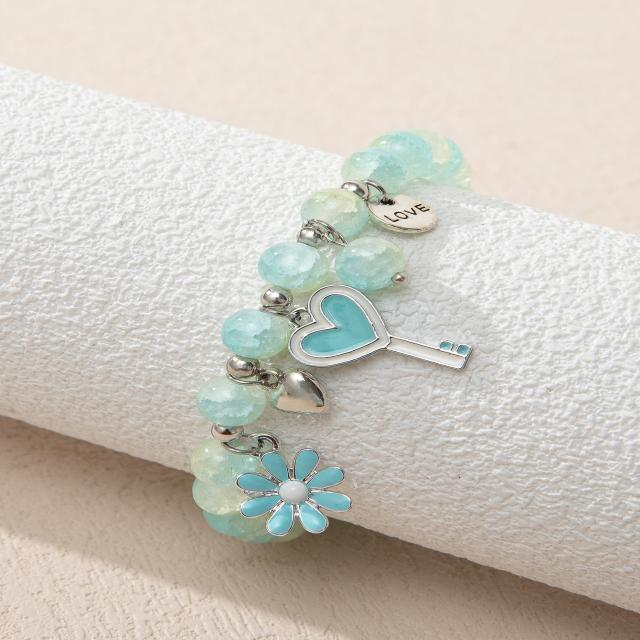bracelet: (147, 44, 546, 631)
